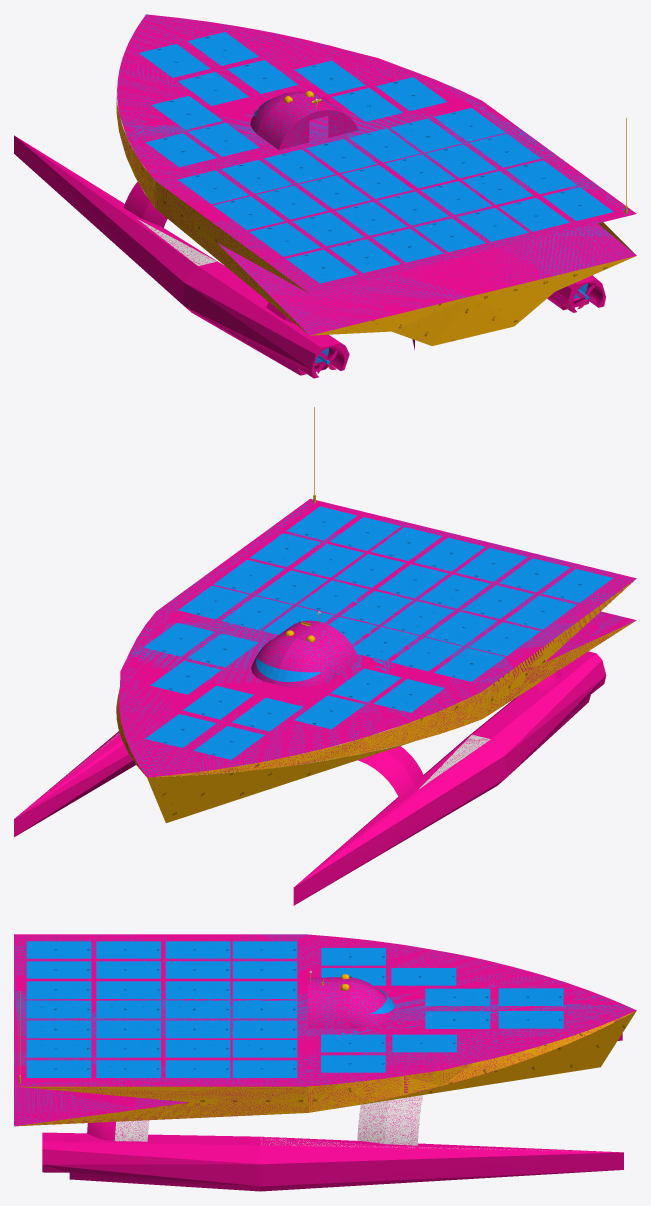
The model's file is coque_babord_motorboat.dae.
3 views of the same model, one above another, from view 1: azimuth 30°, elevation 25°; view 2: azimuth 150°, elevation 25°; view 3: azimuth 270°, elevation 25° (orthographic). The views are drawn at different scales.
Parts seen in each view (by area): view 1: SketchUp (×10), instance_4, instance_1, instance_2, instance_3, instance_6, instance_8, instance_11, instance_15, instance_16, instance_19, instance_25 (+27 smaller); view 2: SketchUp (×10), instance_2, instance_4, instance_17, instance_3, instance_9, instance_15, instance_16, instance_18, instance_28, instance_34, instance_36 (+26 smaller); view 3: SketchUp (×12), instance_4, instance_5, instance_11, instance_21, instance_28, instance_29, instance_18, instance_19, instance_37, instance_38, instance_1 (+27 smaller).
Boxes of the visible parts, x1,y1,x2,y2 form: SketchUp (×10): (14,14,636,378); instance_4: (414,218,485,252); instance_1: (286,249,357,283); instance_2: (329,239,400,272); instance_3: (372,228,443,262); instance_6: (462,171,533,204); instance_8: (506,160,576,194); instance_11: (349,128,420,162); instance_15: (250,223,320,256); instance_16: (292,212,363,246); instance_19: (421,181,491,214); instance_25: (256,185,327,219); SketchUp (×10): (14,498,636,905); instance_2: (499,558,570,592); instance_4: (414,537,484,571); instance_17: (419,574,490,608); instance_3: (456,548,526,581); instance_9: (391,637,461,671); instance_15: (505,595,576,629); instance_16: (462,585,533,618); instance_18: (377,564,448,598); instance_28: (298,580,369,614); instance_34: (373,679,444,712); instance_36: (143,622,214,656); SketchUp (×12): (14,934,636,1191); instance_4: (26,1000,91,1018); instance_5: (26,1020,91,1038); instance_11: (232,1020,297,1038); instance_21: (165,1000,230,1018); instance_28: (165,1020,230,1038); instance_29: (232,1000,297,1018); instance_18: (96,1000,160,1018); instance_19: (96,1020,160,1038); instance_37: (321,1034,385,1052); instance_38: (392,1034,456,1052); instance_1: (26,941,91,958).
Size of the model in its own units: 68008 by 117770 by 47075.
6 materials, 5 textured.
